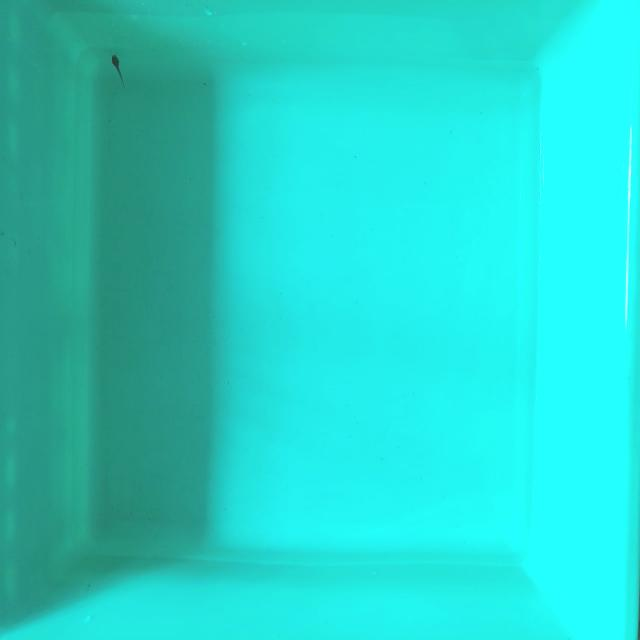lele: (110, 54, 124, 88)
